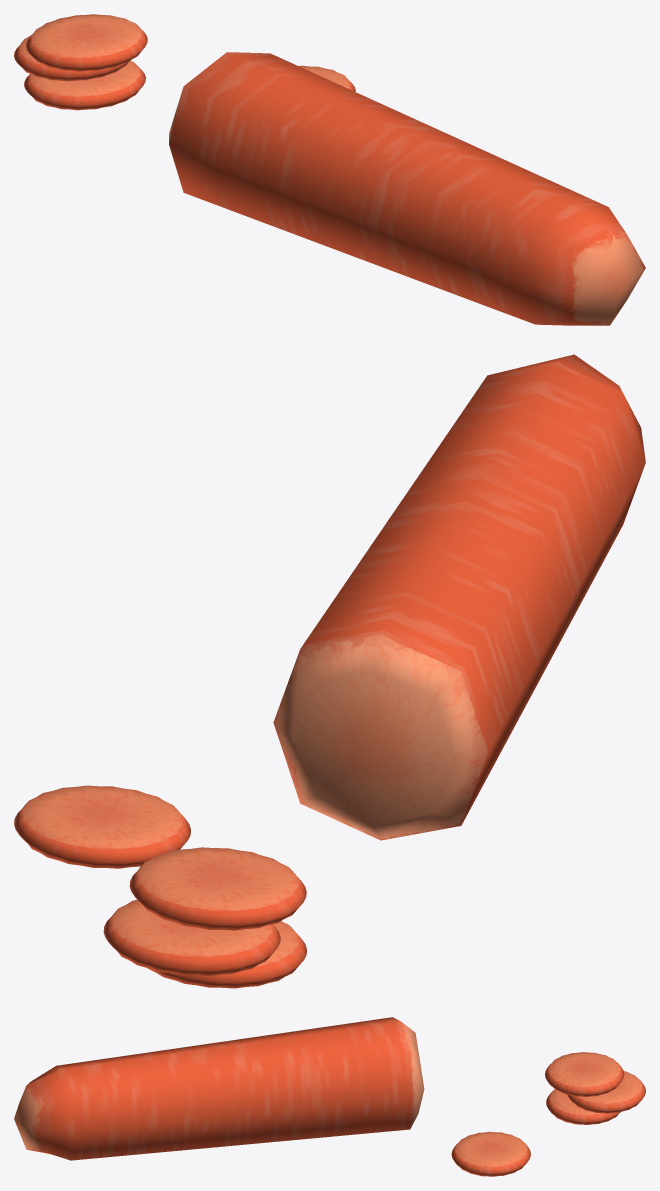
File: PR_carrot_01.fbx
3 renders of one model, top to bottom at view 1: azimuth 30°, elevation 25°; view 2: azimuth 150°, elevation 25°; view 3: azimuth 270°, elevation 25°, orthographic. The views are drawn at different scales.
Visible parts, largest first — view 1: Carrot, Carrot_slice2, Carrot_slice4, Carrot_slice3, Carrot_slice1; view 2: Carrot, Carrot_slice2, Carrot_slice1, Carrot_slice3, Carrot_slice4; view 3: Carrot, Carrot_slice2, Carrot_slice1, Carrot_slice3, Carrot_slice4.
Boxes of the visible parts, x1,y1,x2,y2 form: Carrot: (169, 52, 645, 325); Carrot_slice2: (26, 14, 147, 71); Carrot_slice4: (24, 60, 145, 110); Carrot_slice3: (14, 35, 128, 81); Carrot_slice1: (298, 65, 355, 91); Carrot: (273, 354, 645, 840); Carrot_slice2: (129, 847, 306, 930); Carrot_slice1: (14, 785, 190, 868); Carrot_slice3: (103, 900, 280, 976); Carrot_slice4: (147, 921, 306, 988); Carrot: (14, 1017, 424, 1160); Carrot_slice2: (545, 1052, 624, 1096); Carrot_slice1: (451, 1131, 530, 1176); Carrot_slice3: (567, 1071, 645, 1113); Carrot_slice4: (546, 1089, 620, 1124).
Size of the model in its own units: 1966 by 1051 by 5835.
Materials: 1 (1 with a texture image).
